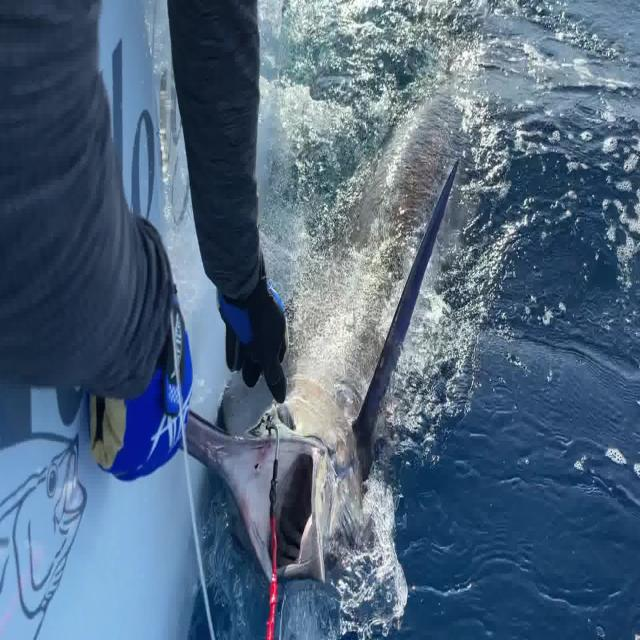Liberacion segura: (175, 72, 477, 593)
